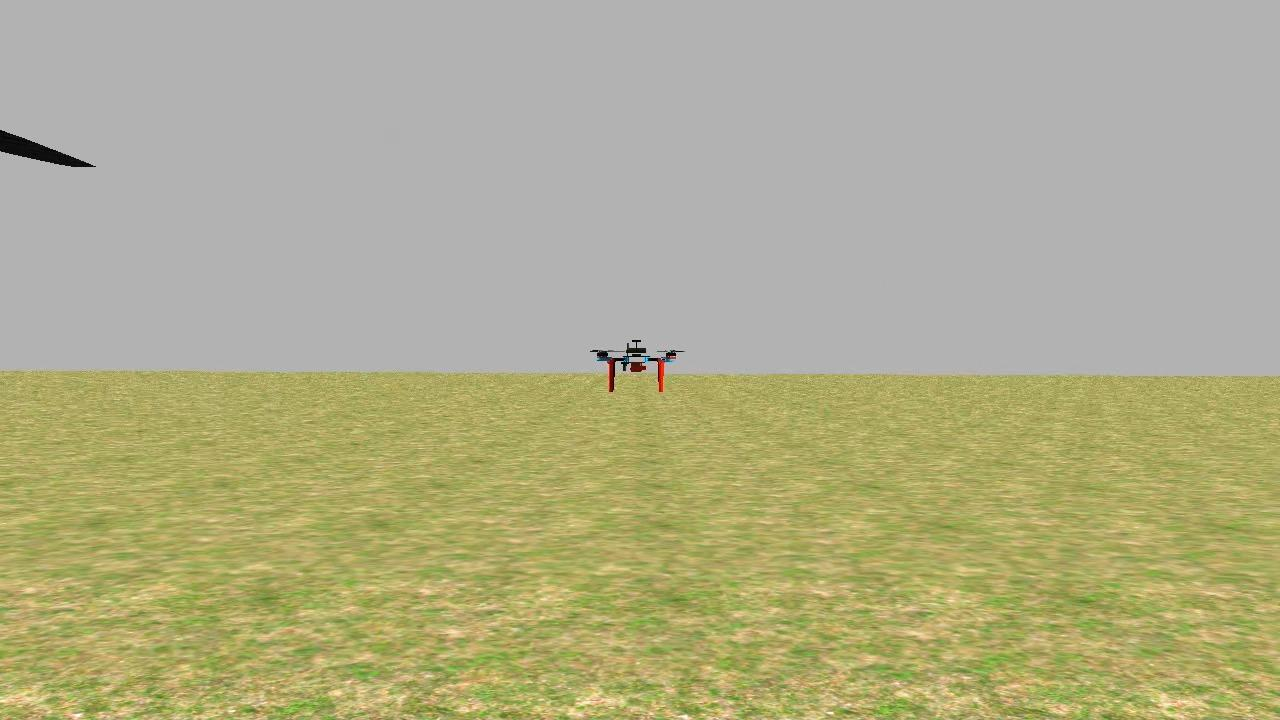UAV: (593, 332, 686, 402)
